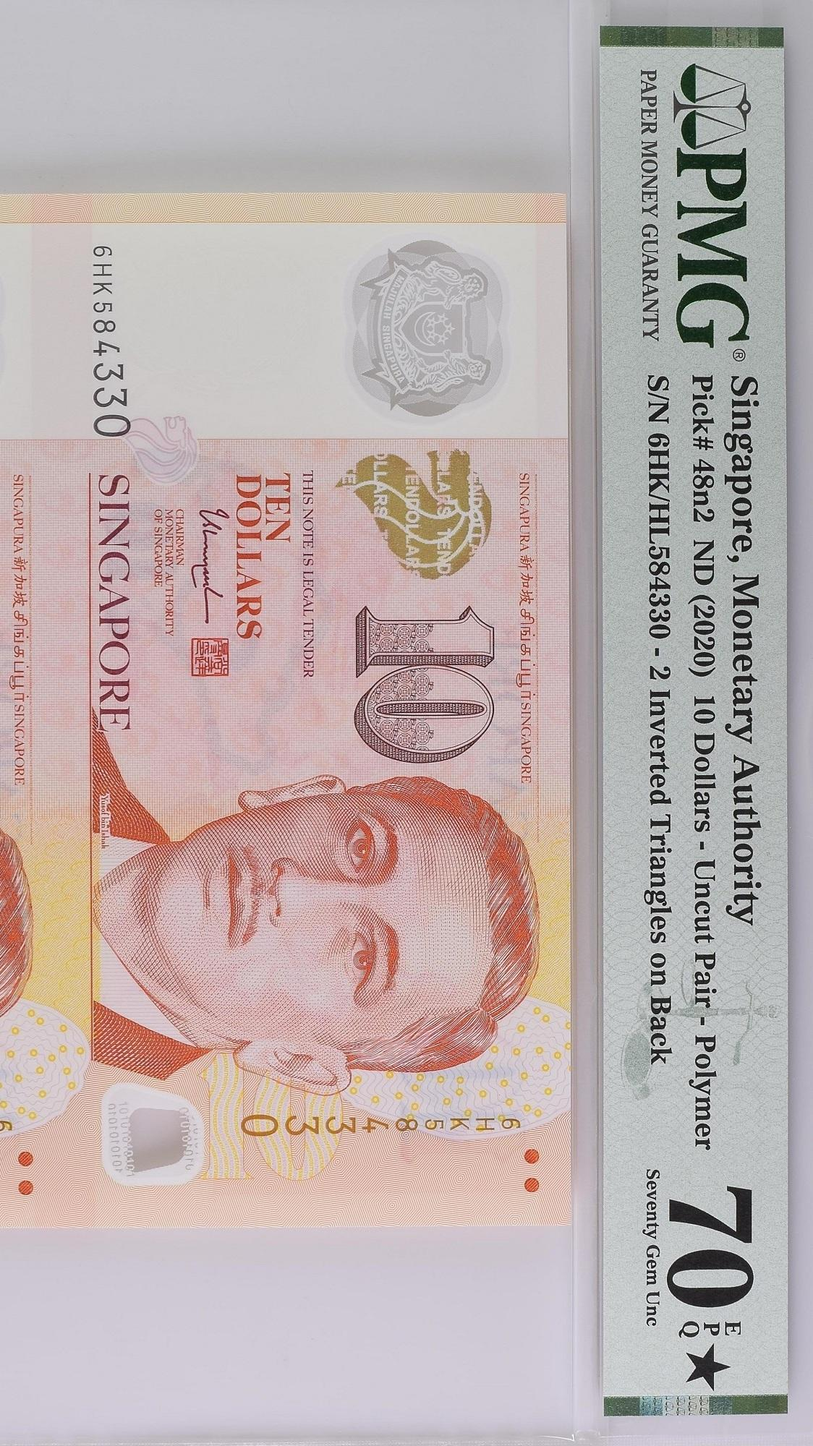10SingaporeDollar: (58, 196, 568, 1223)
